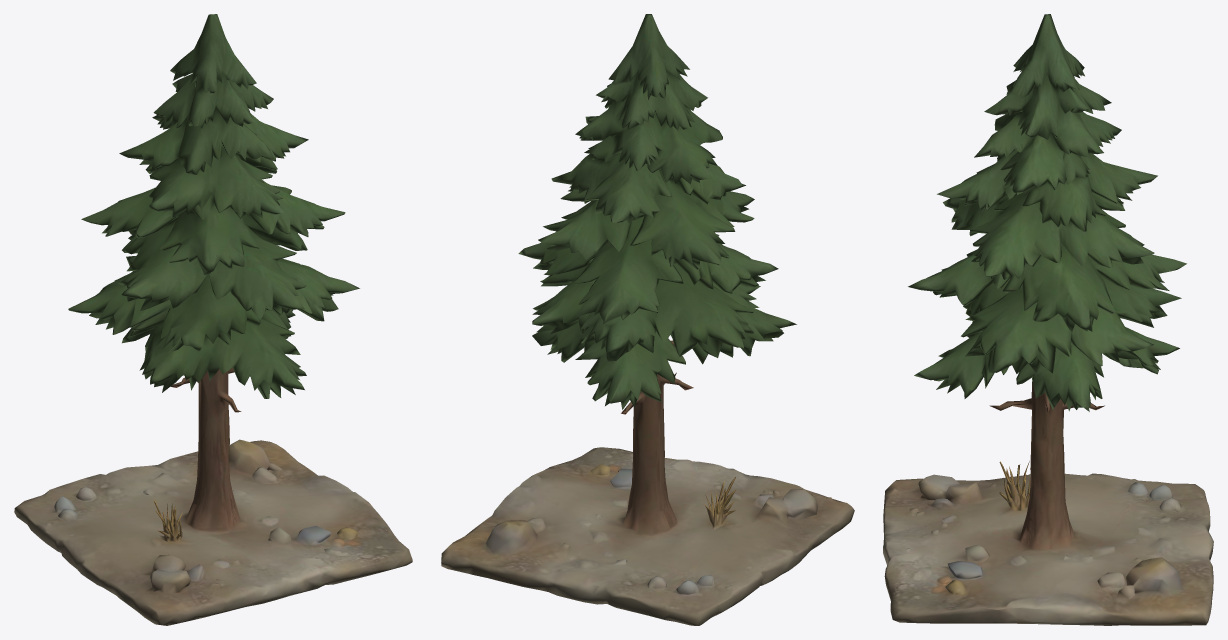
The model's file is journey_pine.glb.
3 renders of one model, left to right at view 1: azimuth 30°, elevation 25°; view 2: azimuth 150°, elevation 25°; view 3: azimuth 270°, elevation 25°, orthographic. The views are drawn at different scales.
Parts seen in each view (by area): view 1: tripo_node_33309c6d-1cda-4dc7-8d83-c45bebbe76cd; view 2: tripo_node_33309c6d-1cda-4dc7-8d83-c45bebbe76cd; view 3: tripo_node_33309c6d-1cda-4dc7-8d83-c45bebbe76cd.
Boxes of the visible parts, x1,y1,x2,y2 form: tripo_node_33309c6d-1cda-4dc7-8d83-c45bebbe76cd: [14, 14, 412, 625]; tripo_node_33309c6d-1cda-4dc7-8d83-c45bebbe76cd: [441, 14, 854, 625]; tripo_node_33309c6d-1cda-4dc7-8d83-c45bebbe76cd: [883, 14, 1213, 625].
Size of the model in its own units: 0.547 by 1 by 0.5485.
Materials: 1 (1 with a texture image).
